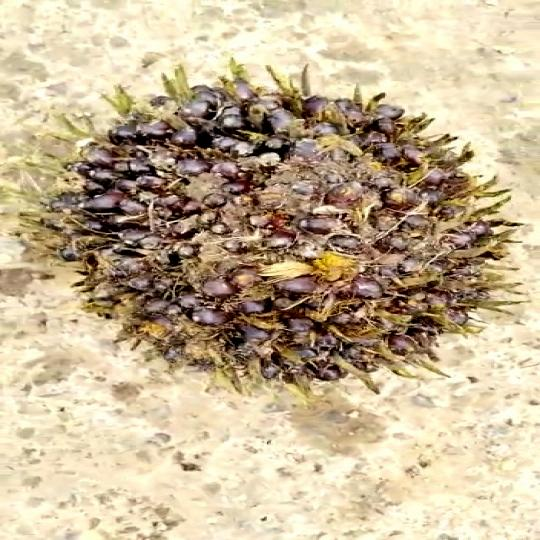kurang masak: (47, 58, 540, 395)
